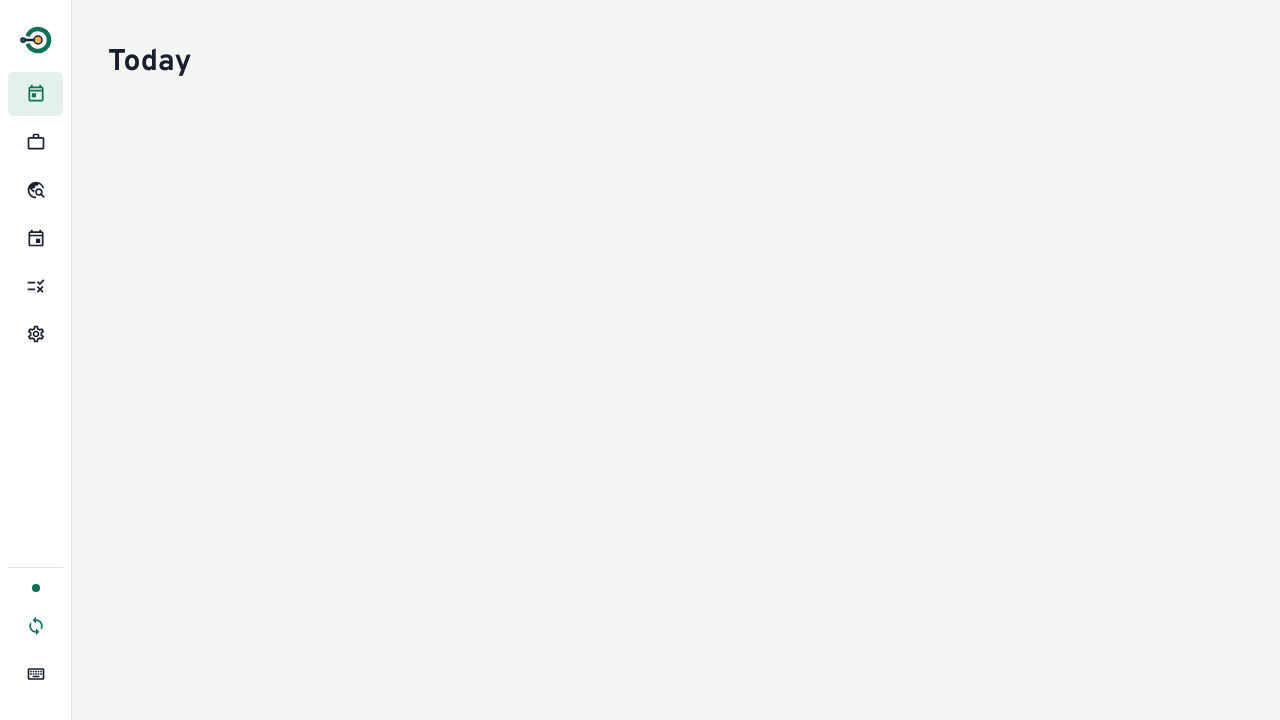
Test: AppShell › Keyboard shortcuts control › is visible in the rail
Click the button named "Keyboard shortcuts": [36, 674] box [26,664,46,684]
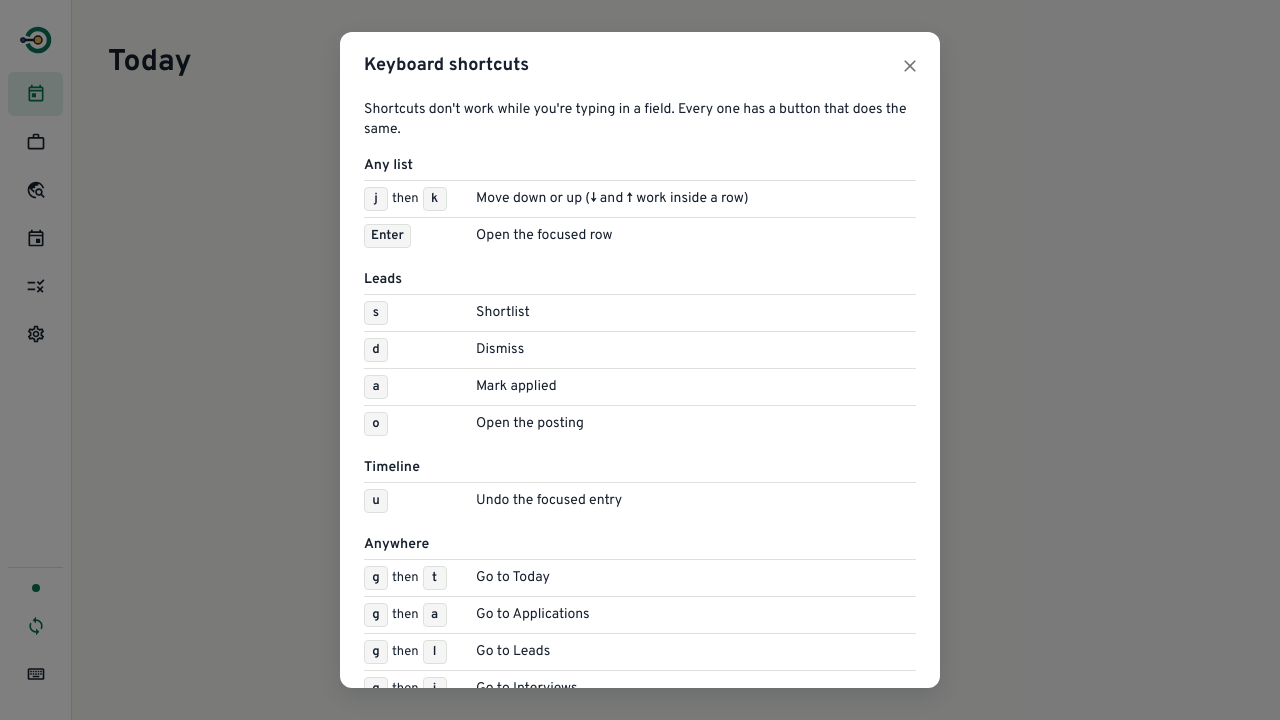
Now the dialog "Keyboard shortcuts" is shown, box [340,32,940,688]
